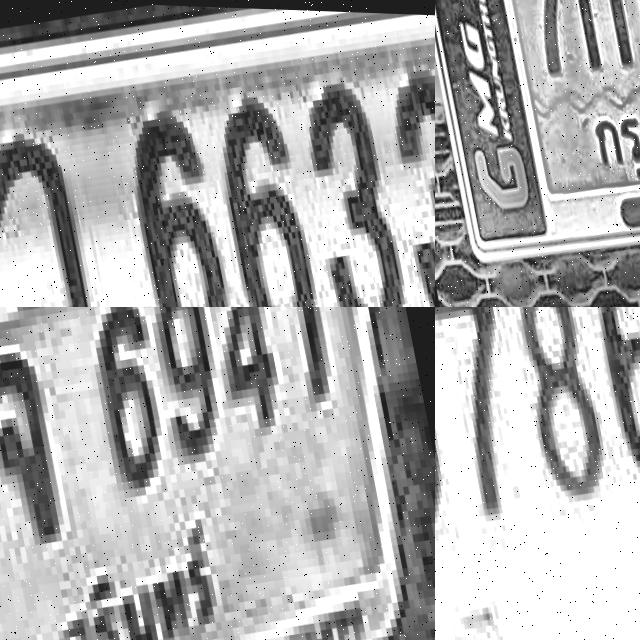license-plate: (0, 307, 435, 640), (0, 0, 435, 307), (435, 307, 640, 640), (435, 0, 640, 307)
